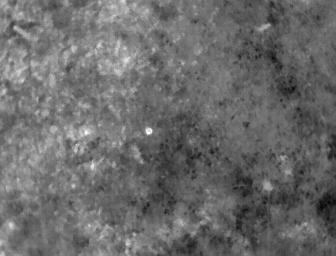landmine: (145, 127, 153, 136)
